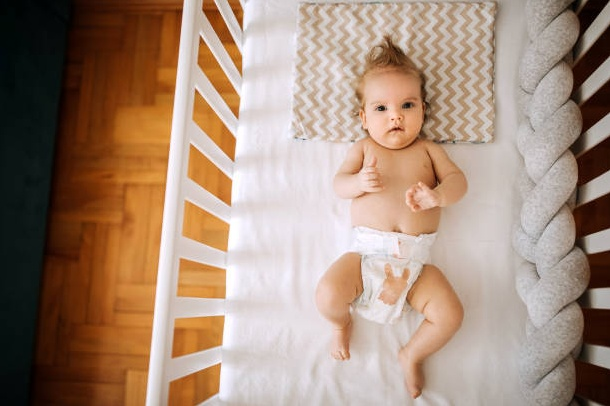baby: (316, 36, 466, 397)
crib: (147, 0, 409, 404)
